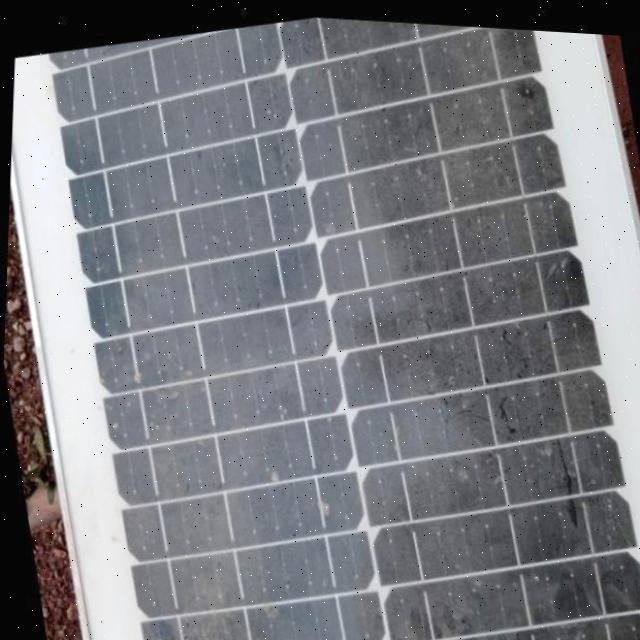Surface Contaminant: (27, 13, 640, 640)
